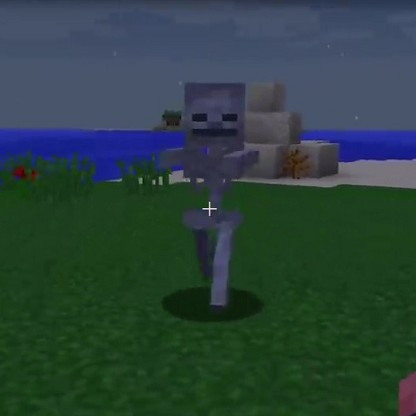skeleton: (164, 80, 264, 304)
